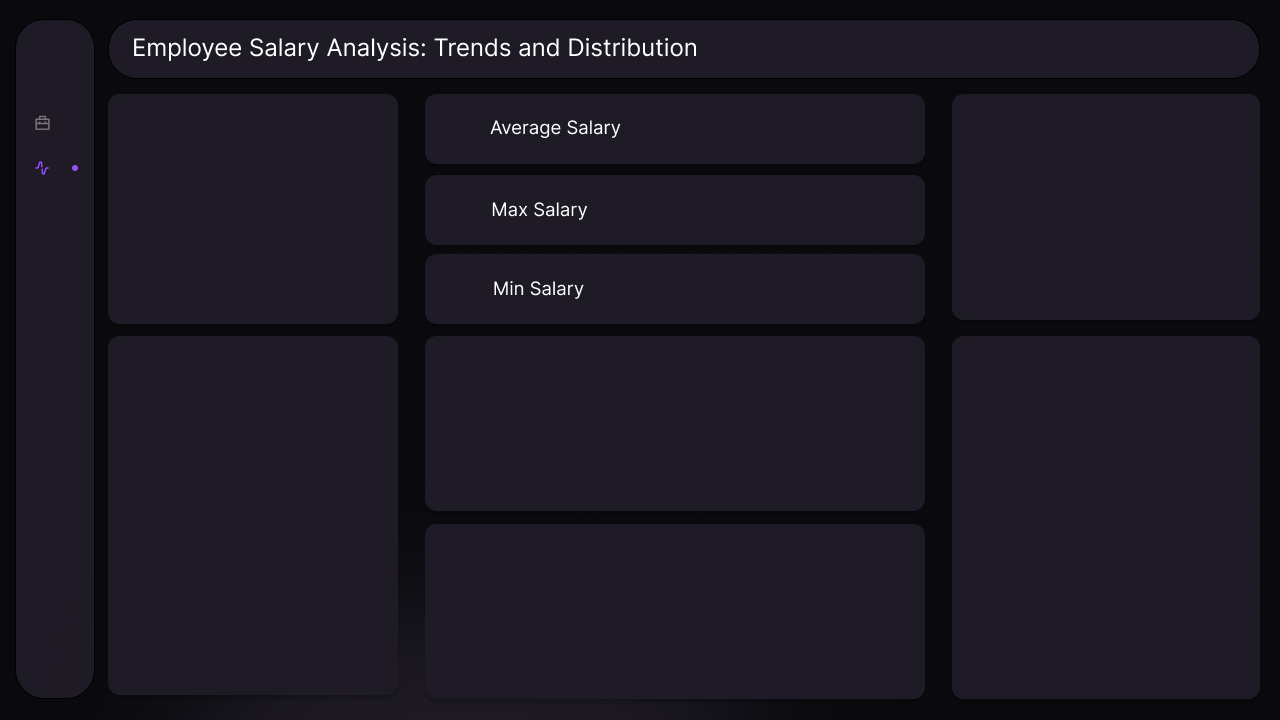

This screenshot's page, from the dashboard's own definition file:
{"tool":"powerbi","page":{"name":"Analysis","canvas":[1280,720],"ordinal":1},"visuals":[{"type":"card","fields":{"Values":["salaries_cleaned.average_salary"]},"box":[675,88.3,246.7,68.3],"z":0},{"type":"card","fields":{"Values":["salaries_cleaned.max_salary"]},"box":[675,168.3,246.7,75],"z":1000},{"type":"clusteredBarChart","fields":{"Y":["salaries_cleaned.average_salary"],"Category":["salaries_cleaned.job_title"]},"box":[953.3,336.7,326.7,366.7],"z":2000},{"type":"lineChart","title":"Yearly Average Salary Trend","fields":{"Category":["salaries_cleaned.work_year"],"Y":["salaries_cleaned.average_salary"]},"box":[110,336.7,283.3,366.7],"z":3000},{"type":"card","fields":{"Values":["salaries_cleaned.min_salary"]},"box":[675,256.7,246.7,58.3],"z":4000},{"type":"clusteredBarChart","title":"Average Salary by Employment Type","fields":{"Category":["salaries_cleaned.employment_type"],"Y":["salaries_cleaned.average_salary"]},"box":[426.7,336.7,495,170],"z":5000},{"type":"clusteredBarChart","title":"Average Salary by Work Mode","fields":{"Y":["salaries_cleaned.average_salary"],"Category":["salaries_cleaned.remote_type"]},"box":[427.1,525.7,494.3,174.3],"z":6000},{"type":"tableEx","title":"Top 5 Jobs by Average Salary","fields":{"Values":["salaries_cleaned.job_title","salaries_cleaned.average_salary"]},"box":[953.8,96.2,310,228.8],"z":7000},{"type":"slicer","fields":{"Values":["salaries_cleaned.work_year"]},"box":[93.3,88.3,318.3,236.7],"z":8000},{"type":"image","box":[434.3,104.3,42.9,42.9],"z":9000},{"type":"image","box":[432.9,182.9,48.6,45.7],"z":10000},{"type":"image","box":[430,266.7,55,45],"z":11000},{"type":"actionButton","box":[16.7,102.2,76.7,40],"z":12000},{"type":"actionButton","box":[833.1,336.9,83.1,30],"z":17000},{"type":"actionButton","box":[735,337,89,30],"z":17001}]}

Visuals, with their boxes on the page's 1280x720 design canvas (x1, y1, x2, y2). These are canvas units, not pixel positions in the 1280x720 screenshot, which may show the page scaled, cropped or inside an application window:
card - salaries_cleaned.average_salary: select_region(675, 88, 922, 157)
card - salaries_cleaned.max_salary: select_region(675, 168, 922, 243)
clusteredBarChart - salaries_cleaned.average_salary x salaries_cleaned.job_title: select_region(953, 337, 1280, 703)
"Yearly Average Salary Trend" lineChart: select_region(110, 337, 393, 703)
card - salaries_cleaned.min_salary: select_region(675, 257, 922, 315)
"Average Salary by Employment Type" clusteredBarChart: select_region(427, 337, 922, 507)
"Average Salary by Work Mode" clusteredBarChart: select_region(427, 526, 921, 700)
"Top 5 Jobs by Average Salary" tableEx: select_region(954, 96, 1264, 325)
slicer - salaries_cleaned.work_year: select_region(93, 88, 412, 325)
image: select_region(434, 104, 477, 147)
image: select_region(433, 183, 482, 229)
image: select_region(430, 267, 485, 312)
actionButton: select_region(17, 102, 93, 142)
actionButton: select_region(833, 337, 916, 367)
actionButton: select_region(735, 337, 824, 367)
